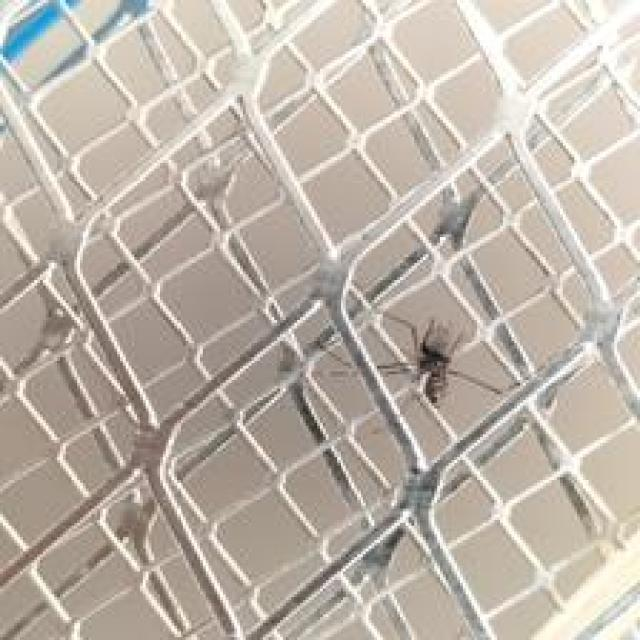Aedes albopictus: (327, 314, 504, 409)
